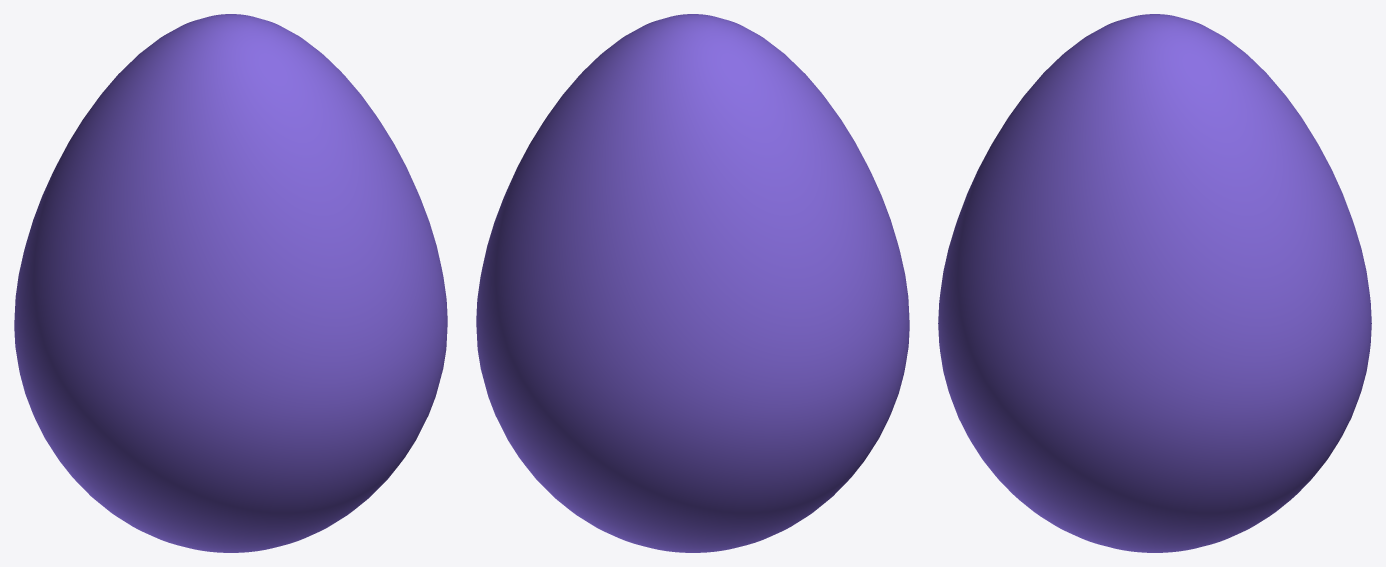
Rendered from shell1test.glb.
3 views of the same model, side by side, from view 1: azimuth 30°, elevation 25°; view 2: azimuth 150°, elevation 25°; view 3: azimuth 270°, elevation 25° (orthographic).
Visible parts, largest first — view 1: Sphere; view 2: Sphere; view 3: Sphere.
Part boxes in pixels (left/top/right/bottom): Sphere: left=14, top=14, right=447, bottom=552; Sphere: left=476, top=14, right=909, bottom=552; Sphere: left=938, top=14, right=1371, bottom=552.
Size of the model in its own units: 2 by 2.61 by 2.
